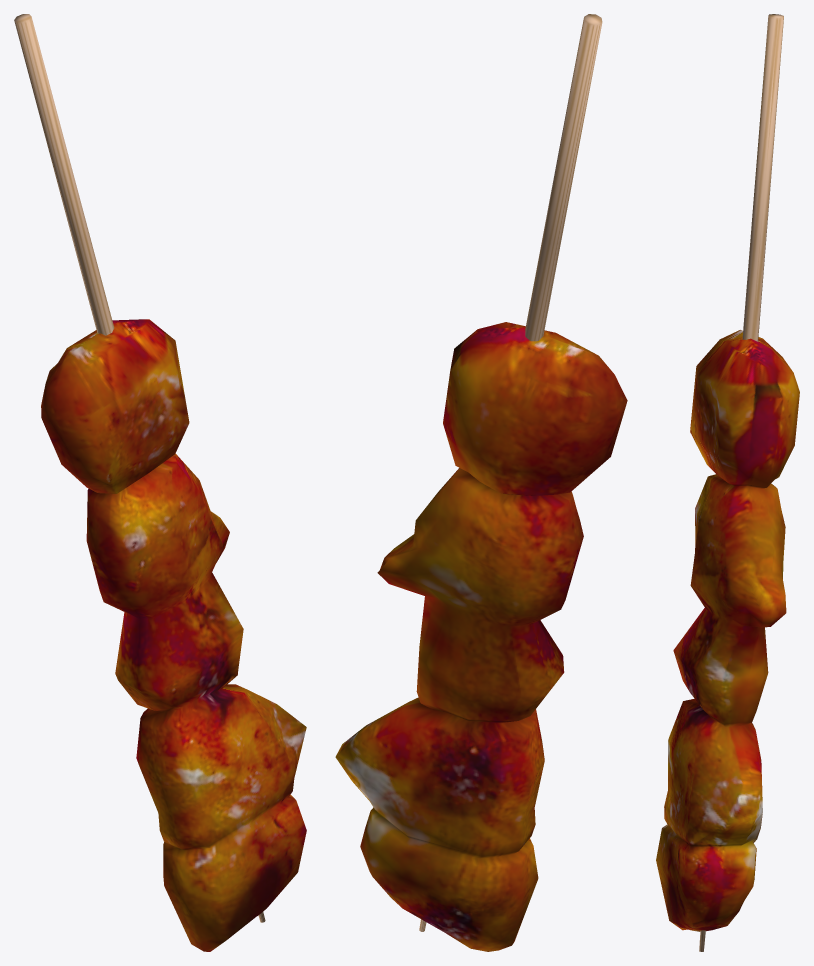
File: item_meat_skewer.glb
The picture shows the model from 3 angles, left to right: view 1: azimuth 30°, elevation 25°; view 2: azimuth 150°, elevation 25°; view 3: azimuth 270°, elevation 25°; orthographic projection. The views are drawn at different scales.
Parts seen in each view (by area): view 1: Skewer; view 2: Skewer; view 3: Skewer.
Part boxes in pixels (left/top/right/bottom): Skewer: left=14, top=14, right=306, bottom=951; Skewer: left=335, top=14, right=627, bottom=951; Skewer: left=656, top=14, right=799, bottom=951.
Size of the model in its own units: 0.0432 by 0.1447 by 0.0221.
1 material, 1 textured.
